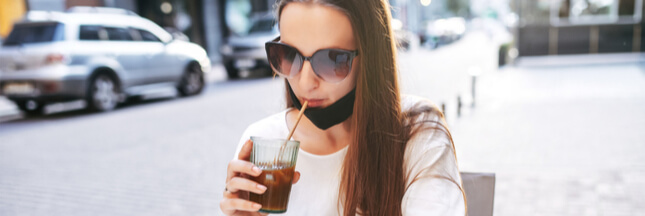with_incorrect_mask: (274, 11, 363, 135)
